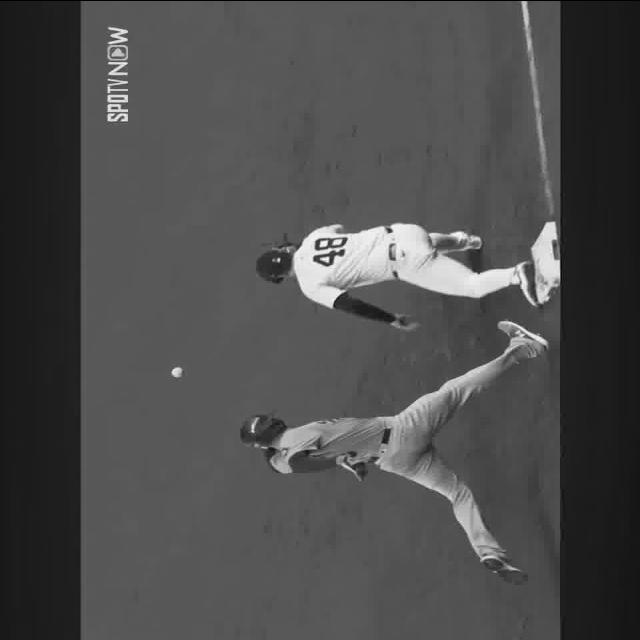base: (530, 220, 560, 302)
baseball: (169, 366, 185, 376)
shoe: (496, 320, 547, 354), (482, 555, 527, 584), (513, 260, 540, 306), (458, 231, 483, 249)
